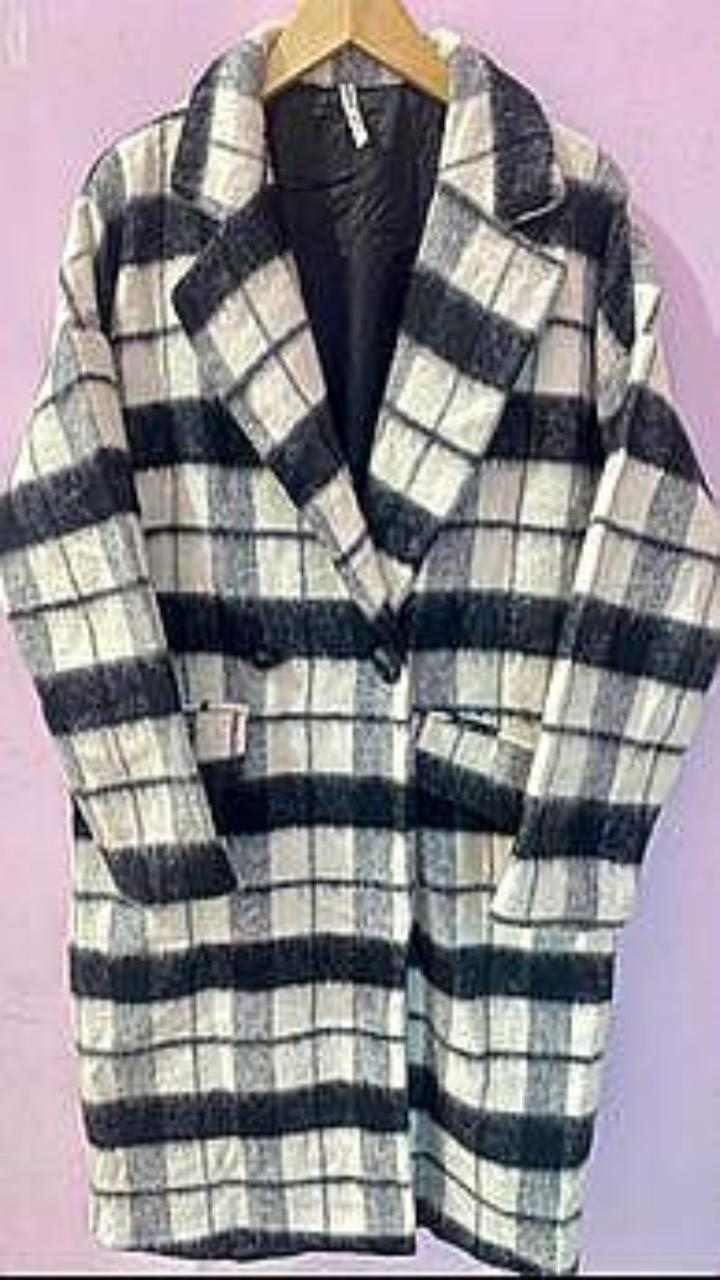Coat: (0, 23, 719, 1273)
